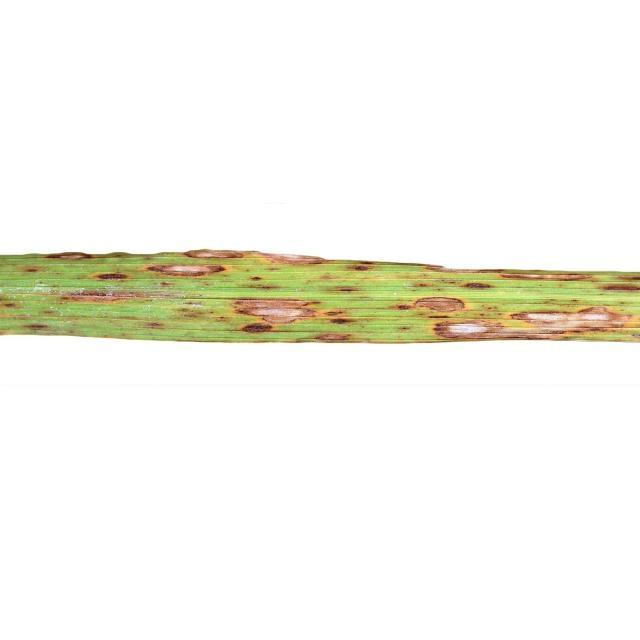Leaf_Blast: (514, 296, 625, 339), (217, 284, 312, 323), (193, 246, 364, 264), (432, 312, 500, 342), (149, 250, 195, 280)
